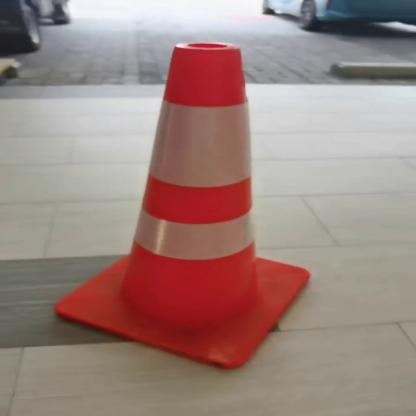cone: (39, 33, 323, 373)
